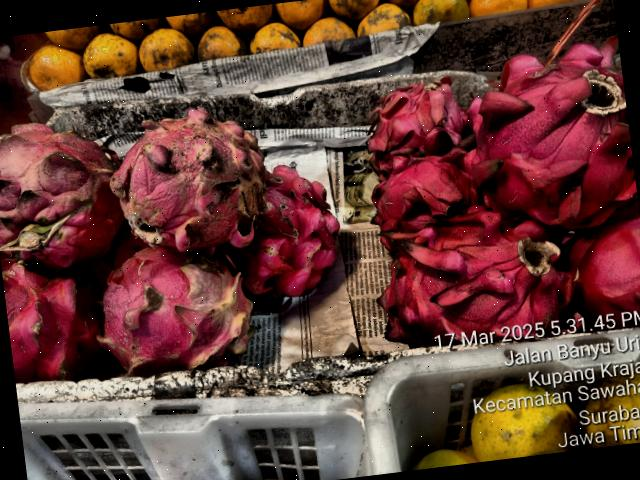buah-naga-belum-matang: (86, 99, 270, 256), (90, 237, 255, 382), (0, 112, 128, 272)
buah-naga-matang: (445, 23, 639, 231), (369, 199, 582, 354), (228, 165, 344, 301), (2, 256, 108, 384), (368, 148, 494, 240), (352, 61, 460, 166), (562, 220, 640, 333)
